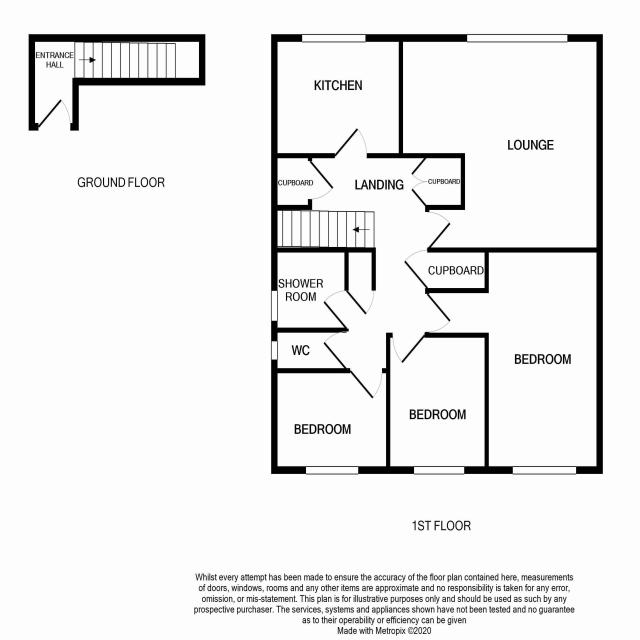DOOR: (401, 246, 431, 294), (321, 329, 349, 374), (321, 288, 350, 331), (425, 210, 453, 253), (391, 332, 426, 366), (424, 292, 453, 333), (333, 126, 369, 159), (307, 159, 335, 201), (349, 368, 383, 401), (344, 289, 376, 317)
ROOM: (399, 34, 602, 252), (425, 248, 603, 474), (270, 33, 403, 159), (386, 332, 489, 475), (271, 368, 391, 474)
WINDOW: (464, 31, 570, 45), (301, 33, 367, 43), (305, 465, 359, 475), (413, 466, 465, 475), (270, 290, 279, 322), (270, 340, 279, 361)
